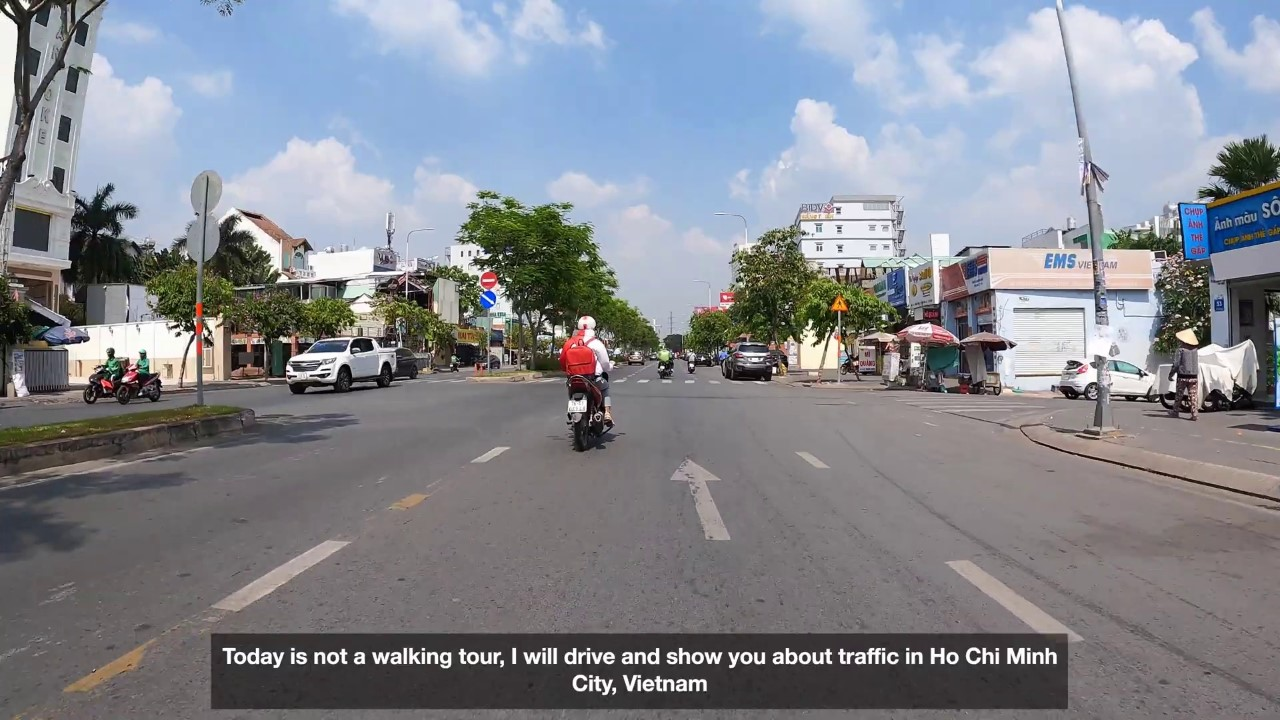cam_nguoc_chieu: (480, 271, 497, 289)
can_than_nguoi_qua_duong: (830, 295, 849, 311)
huong_phai_di_vong: (480, 291, 496, 308)
